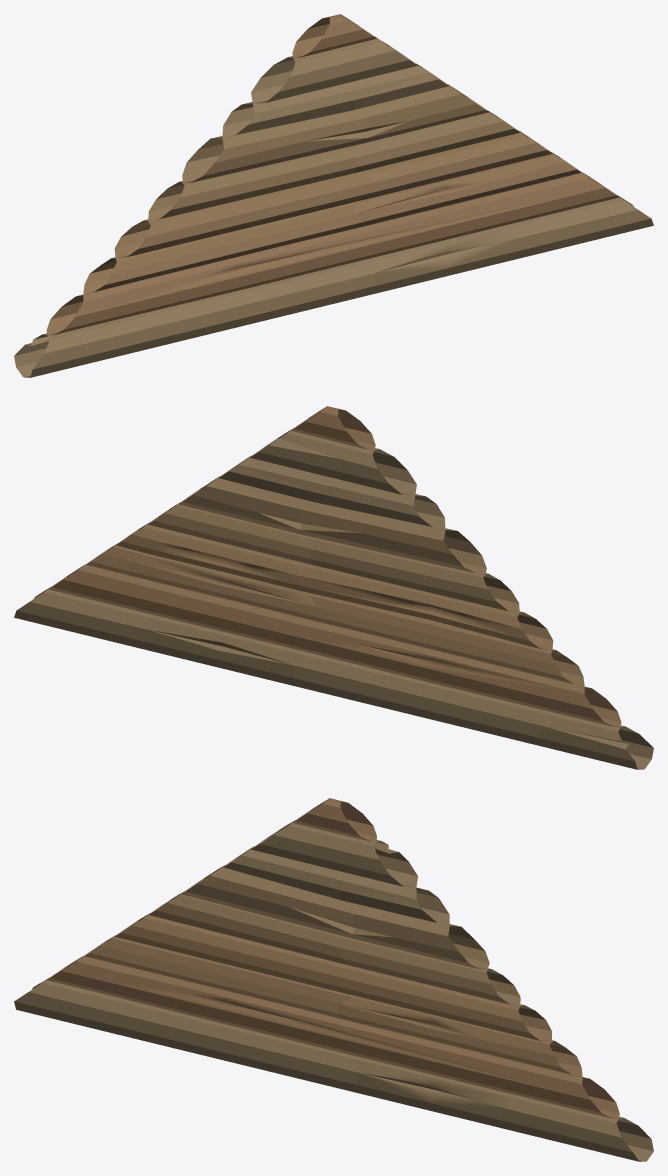
Rendered from rpgpp_ag_roof_end_01_9x4_wall_a.fbx.
3 renders of one model, top to bottom at view 1: azimuth 30°, elevation 25°; view 2: azimuth 150°, elevation 25°; view 3: azimuth 330°, elevation 25°, orthographic.
Visible parts, largest first — view 1: rpgpp_ag_roof_end_01_9x4_wall_a; view 2: rpgpp_ag_roof_end_01_9x4_wall_a; view 3: rpgpp_ag_roof_end_01_9x4_wall_a.
Boxes of the visible parts, bbox=[...] form: rpgpp_ag_roof_end_01_9x4_wall_a: bbox=[14, 14, 653, 377]; rpgpp_ag_roof_end_01_9x4_wall_a: bbox=[14, 406, 653, 769]; rpgpp_ag_roof_end_01_9x4_wall_a: bbox=[14, 798, 653, 1161].
Size of the model in its own units: 9 by 3.94 by 0.4626.
